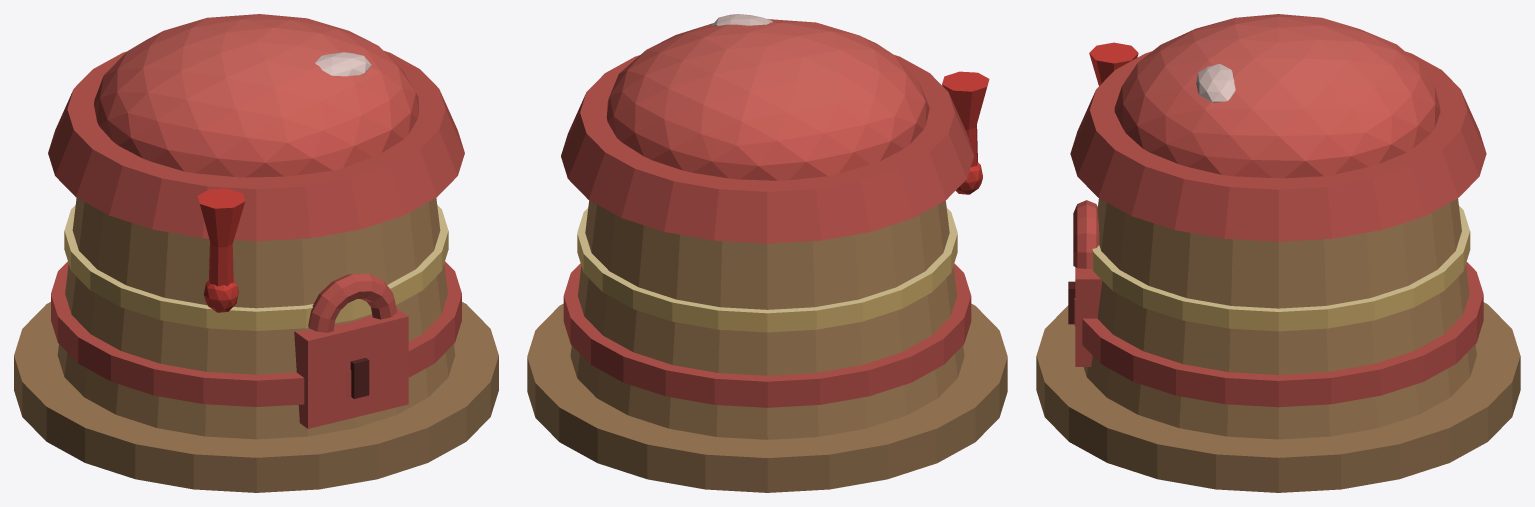
File: goo_lock_button@winter.fbx
The picture shows the model from 3 angles, left to right: view 1: azimuth 30°, elevation 25°; view 2: azimuth 150°, elevation 25°; view 3: azimuth 270°, elevation 25°; orthographic projection.
Parts seen in each view (by area): view 1: goo_lock_button; view 2: goo_lock_button; view 3: goo_lock_button.
Part boxes in pixels (x1,y1,x2,y2): goo_lock_button: [14, 14, 498, 492]; goo_lock_button: [527, 14, 1007, 492]; goo_lock_button: [1036, 14, 1520, 492].
Bounding box in the file's own units: 5 × 3.97 × 5.
